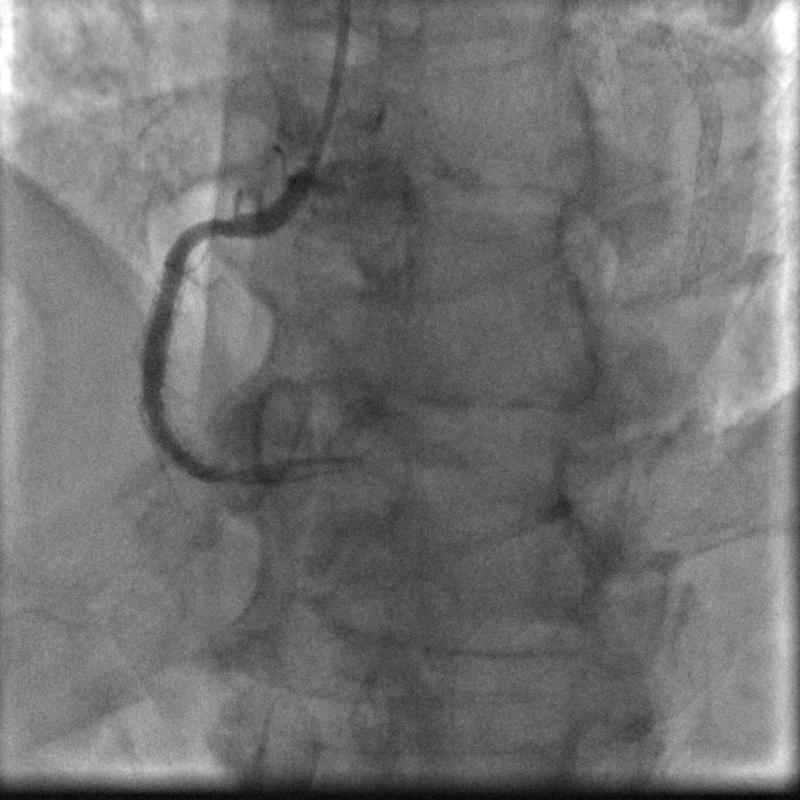Stenosis: (197, 207, 238, 245)
